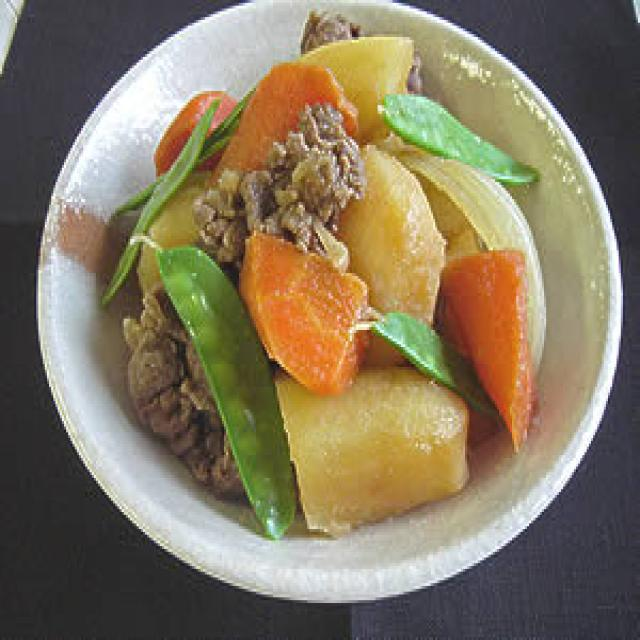牛肉菜式: (32, 0, 627, 609)
